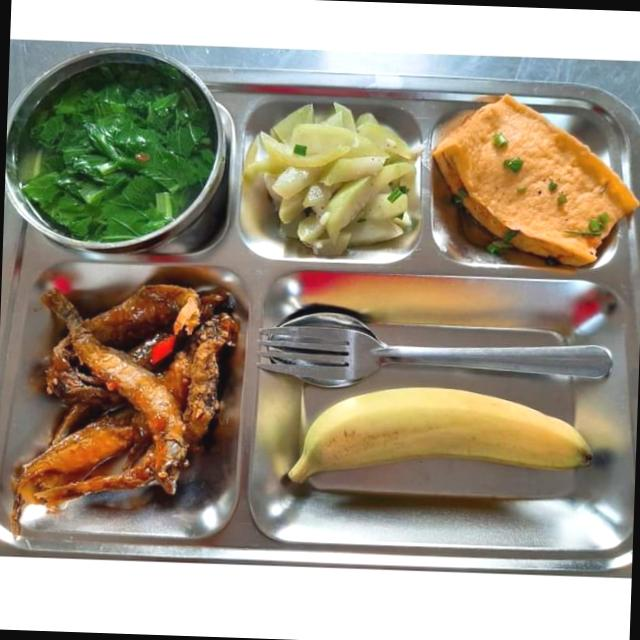ca chien: (12, 283, 239, 532)
canh cai: (9, 63, 217, 241)
chuoi: (289, 387, 591, 480)
dau hu: (432, 95, 638, 265)
rau: (244, 102, 420, 255)
